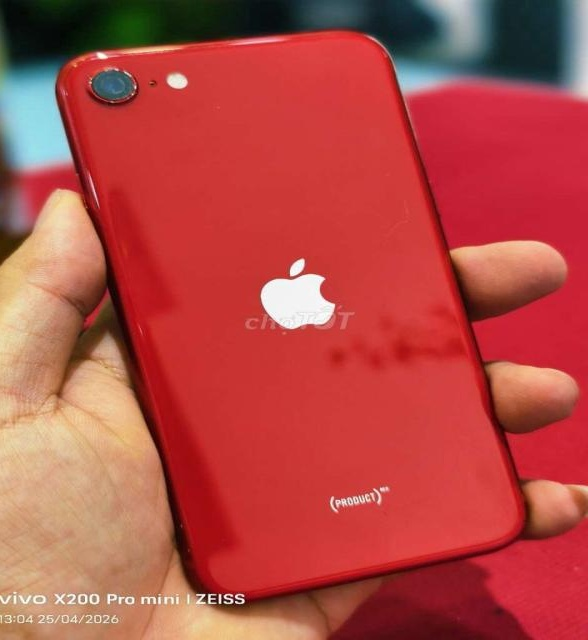scratch: (77, 63, 138, 110), (72, 164, 119, 217), (125, 312, 169, 350), (43, 82, 84, 109), (195, 96, 232, 117)
